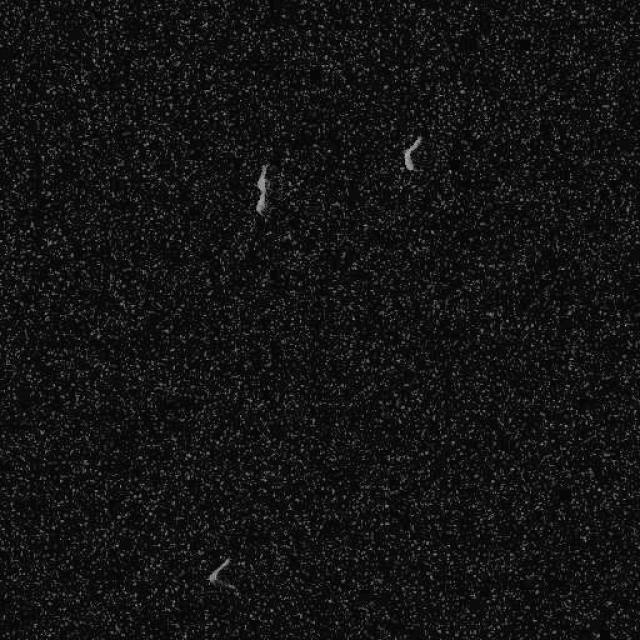D2: (205, 555, 236, 593), (254, 162, 270, 218), (402, 134, 422, 172)
